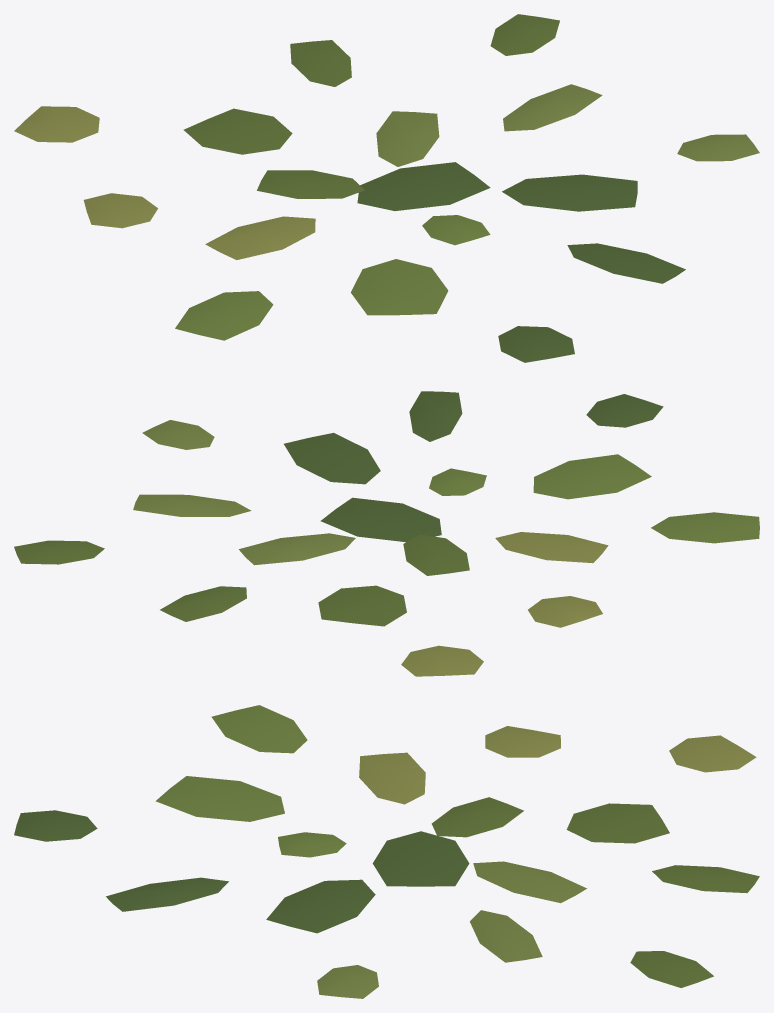
Rendered from duckweed.glb.
3 views of the same model, one above another, from view 1: azimuth 30°, elevation 25°; view 2: azimuth 150°, elevation 25°; view 3: azimuth 270°, elevation 25° (orthographic). The views are drawn at different scales.
Visible parts, largest first — view 1: Floating duckweed fronds with cupped margins; view 2: Floating duckweed fronds with cupped margins; view 3: Floating duckweed fronds with cupped margins.
Boxes of the visible parts, <box> form: Floating duckweed fronds with cupped margins: <box>14,14,759,362</box>; Floating duckweed fronds with cupped margins: <box>14,391,759,676</box>; Floating duckweed fronds with cupped margins: <box>14,705,759,998</box>.
Size of the model in its own units: 0.2251 by 0.0035 by 0.2391.
